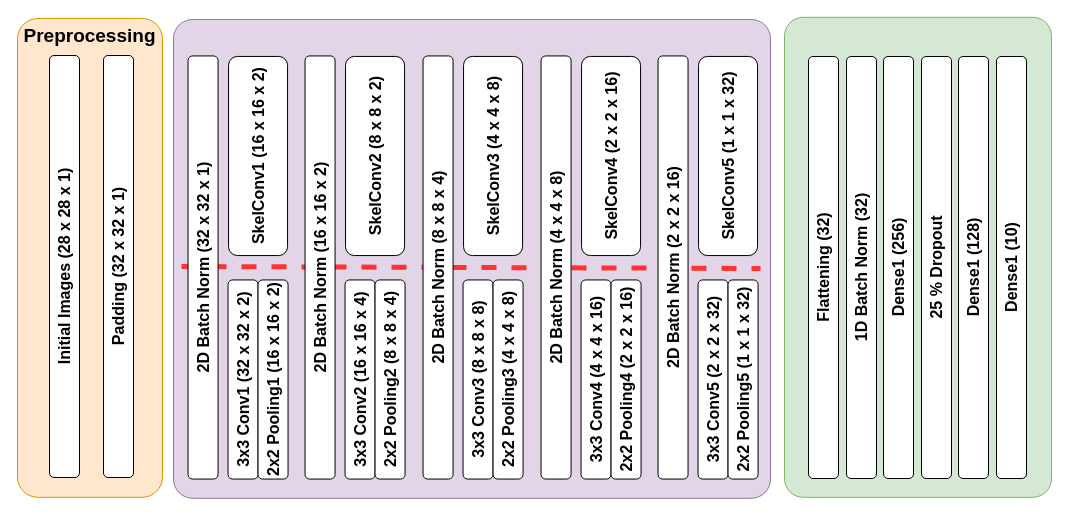
This 1069x516 diagram has some shape labels left out. The box of each missing label's shape, as (x1, y1, x2, y2) in pixels:
Classification: (784, 16, 1052, 497)
Feature Extraction: (172, 18, 770, 498)
